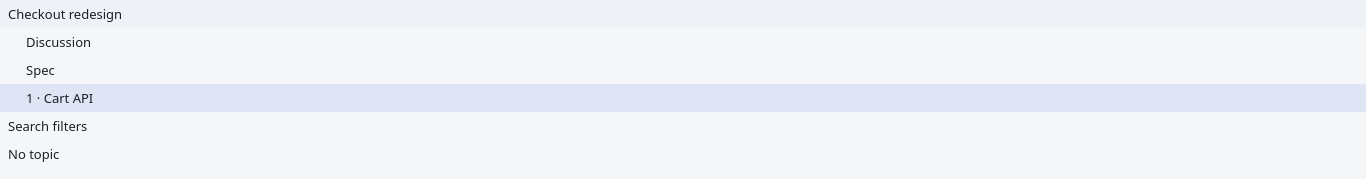
Scenario: Tree › Enter and a click on a group fold and unfold it, and activate nothing
Step 1. Click the text "Checkout redesign" → (65, 14), box [8,4,122,24]
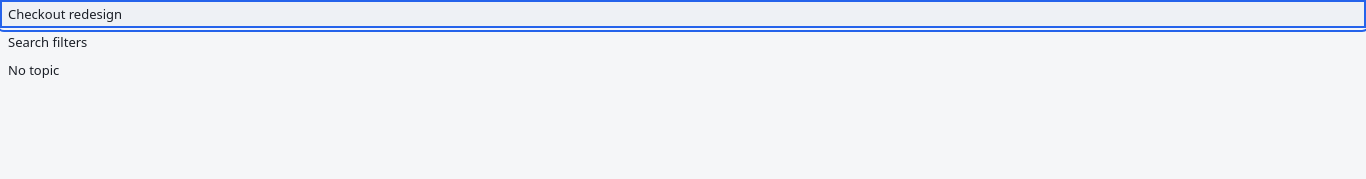
Expected: the text "Spec" is gone
Step 2. Press Enter
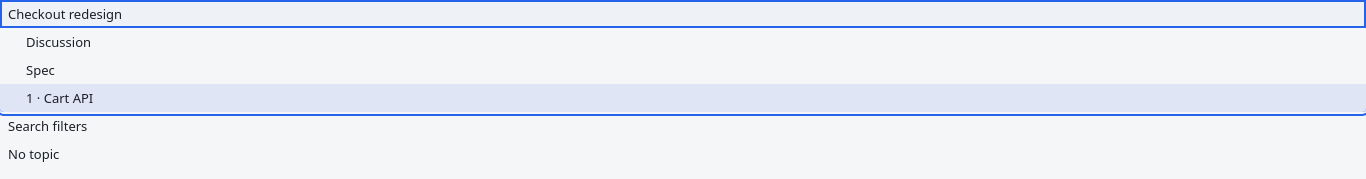
Expected: the list item with aria-label "Checkout redesign, Executing" is expanded
